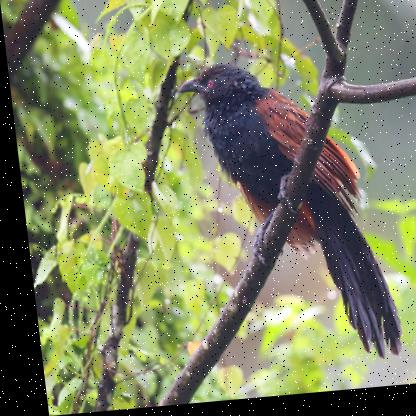Burung: (175, 56, 396, 377)
